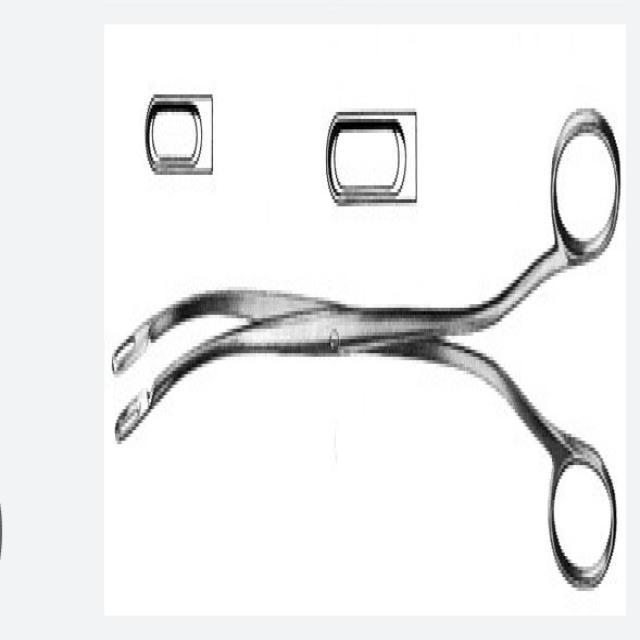Desjardin Forceps: (108, 83, 620, 596)
